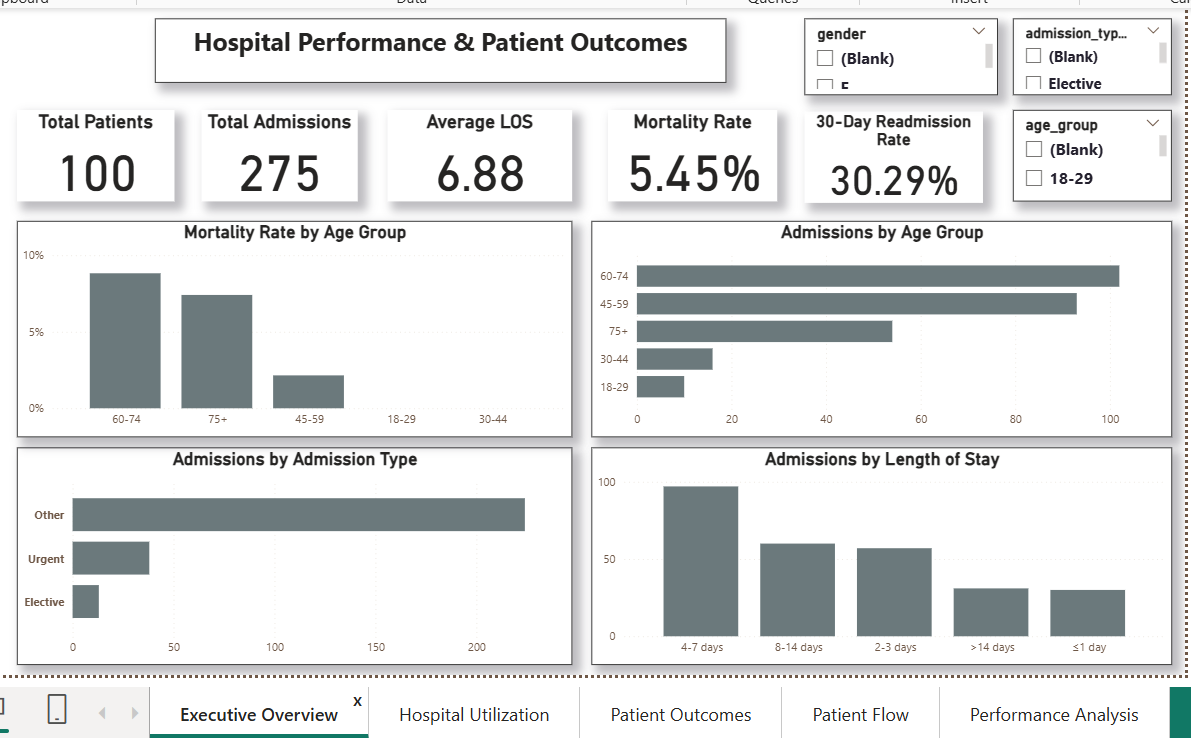

What the dashboard file says about the page in this screenshot:
{"tool":"powerbi","page":{"name":"Executive Overview","canvas":[1280,720],"ordinal":0},"visuals":[{"type":"textbox","box":[168.4,11.3,616.9,69.6],"z":0},{"type":"card","title":"Total Patients","fields":{"Values":["hospital_analytics.Total Patients"]},"box":[19.4,110.1,170,98.8],"z":1000},{"type":"card","title":"Total Admissions","fields":{"Values":["hospital_analytics.Total Admissions"]},"box":[218.6,110.1,168.4,98.8],"z":2000},{"type":"card","title":"Average LOS","fields":{"Values":["hospital_analytics.Average LOS"]},"box":[419.4,110.1,199.2,98.8],"z":3000},{"type":"card","title":"Mortality Rate","fields":{"Values":["hospital_analytics.Mortality Rate"]},"box":[657.4,110.1,183,98.8],"z":4000},{"type":"card","title":"30-Day Readmission Rate","fields":{"Values":["hospital_analytics.30-Day Readmission Rate"]},"box":[869.5,111.7,192.7,98.8],"z":5000},{"type":"slicer","fields":{"Values":["hospital_analytics.admission_type_group"]},"box":[1094.6,11.3,171.6,82.6],"z":6000},{"type":"slicer","fields":{"Values":["hospital_analytics.age_group"]},"box":[1094.6,110.1,171.6,98.8],"z":7000},{"type":"slicer","fields":{"Values":["hospital_analytics.gender"]},"box":[869.5,11.3,208.9,82.6],"z":8000},{"type":"clusteredBarChart","title":"Admissions by Admission Type","fields":{"Category":["hospital_analytics.admission_type_group"],"Y":["hospital_analytics.Total Admissions"]},"box":[19.4,474.4,599.1,234.8],"z":9000},{"type":"clusteredColumnChart","title":"Mortality Rate by Age Group","fields":{"Category":["hospital_analytics.age_group"],"Y":["hospital_analytics.Mortality Rate"]},"box":[19.4,229.9,599.1,233.2],"z":10000},{"type":"barChart","title":"Admissions by Age Group","fields":{"Category":["hospital_analytics.age_group"],"Y":["hospital_analytics.Total Admissions"]},"box":[639.6,229.9,626.6,233.2],"z":11000},{"type":"columnChart","title":"Admissions by Length of Stay","fields":{"Category":["hospital_analytics.los_category"],"Y":["hospital_analytics.Total Admissions"]},"box":[639.6,474.4,626.6,234.8],"z":12000}]}

Visuals, with their boxes on the page's 1280x720 design canvas (x1, y1, x2, y2). These are canvas units, not pixel positions in the 1191x738 screenshot, which may show the page scaled, cropped or inside an application window:
textbox: box(168, 11, 785, 81)
"Total Patients" card: box(19, 110, 189, 209)
"Total Admissions" card: box(219, 110, 387, 209)
"Average LOS" card: box(419, 110, 619, 209)
"Mortality Rate" card: box(657, 110, 840, 209)
"30-Day Readmission Rate" card: box(870, 112, 1062, 210)
slicer - hospital_analytics.admission_type_group: box(1095, 11, 1266, 94)
slicer - hospital_analytics.age_group: box(1095, 110, 1266, 209)
slicer - hospital_analytics.gender: box(870, 11, 1078, 94)
"Admissions by Admission Type" clusteredBarChart: box(19, 474, 618, 709)
"Mortality Rate by Age Group" clusteredColumnChart: box(19, 230, 618, 463)
"Admissions by Age Group" barChart: box(640, 230, 1266, 463)
"Admissions by Length of Stay" columnChart: box(640, 474, 1266, 709)
